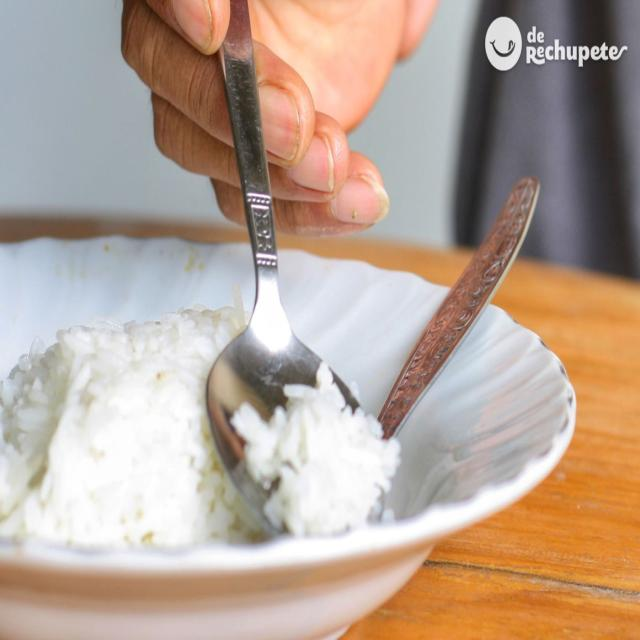arroz: (9, 322, 402, 580)
